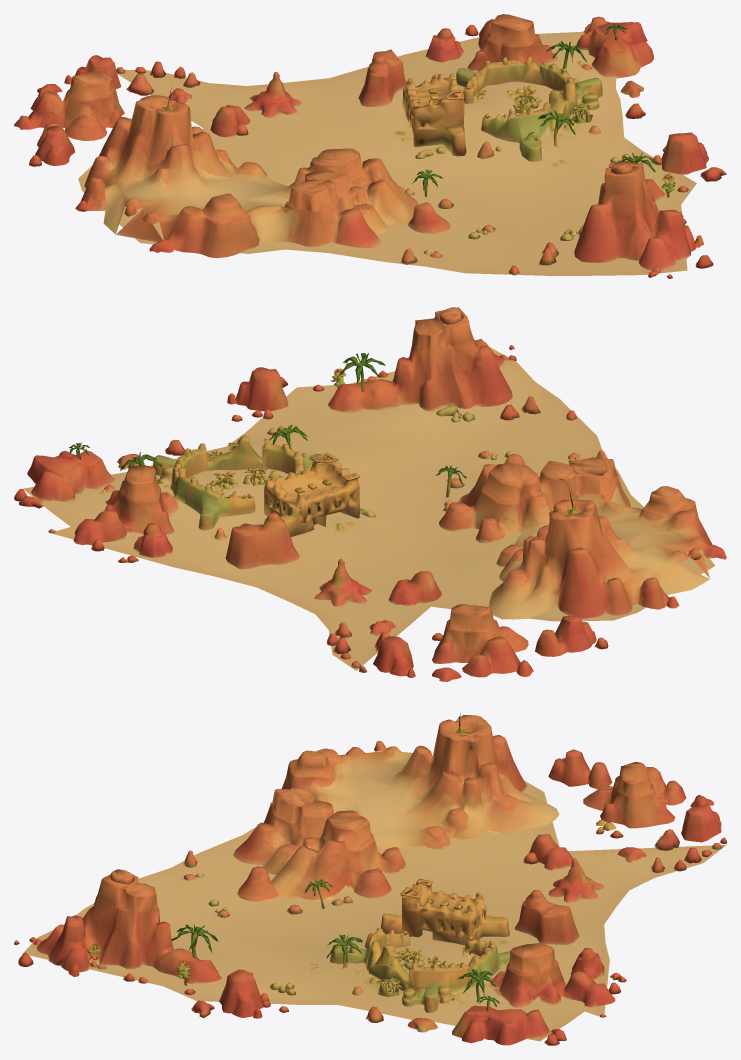
The model's file is isle_04_p1.glb.
3 views of the same model, one above another, from view 1: azimuth 30°, elevation 25°; view 2: azimuth 150°, elevation 25°; view 3: azimuth 270°, elevation 25° (orthographic). The views are drawn at different scales.
Parts seen in each view (by area): view 1: tripo_node_1b926c84-0320-4edb-a948-67e3abc39106; view 2: tripo_node_1b926c84-0320-4edb-a948-67e3abc39106; view 3: tripo_node_1b926c84-0320-4edb-a948-67e3abc39106.
Boxes of the visible parts, x1,y1,x2,y2 form: tripo_node_1b926c84-0320-4edb-a948-67e3abc39106: [14, 14, 726, 278]; tripo_node_1b926c84-0320-4edb-a948-67e3abc39106: [14, 307, 726, 681]; tripo_node_1b926c84-0320-4edb-a948-67e3abc39106: [14, 713, 726, 1045].
Size of the model in its own units: 0.9668 by 0.1699 by 0.998.
1 material, 1 textured.
